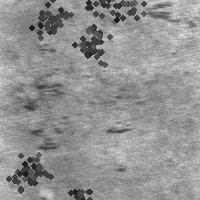rolled-in_scale: (20, 39, 75, 154), (70, 0, 170, 51), (0, 139, 57, 197), (64, 12, 118, 66), (22, 0, 74, 42), (49, 172, 105, 200), (143, 1, 187, 23)
